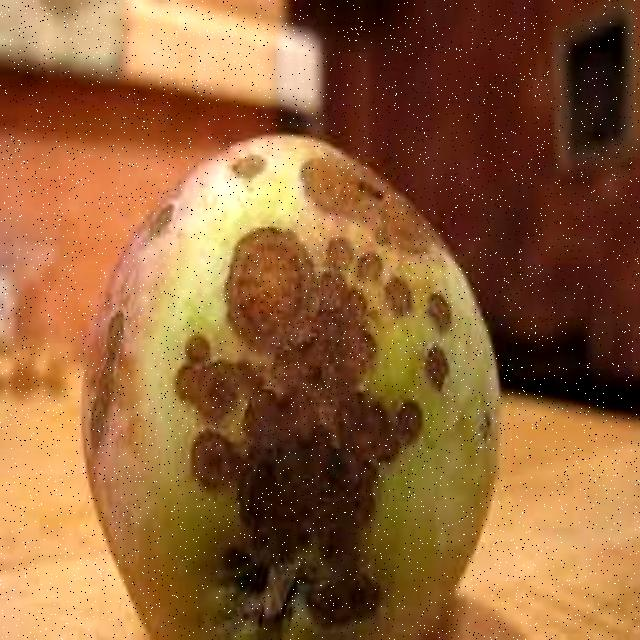SCAB: (68, 113, 510, 633)
